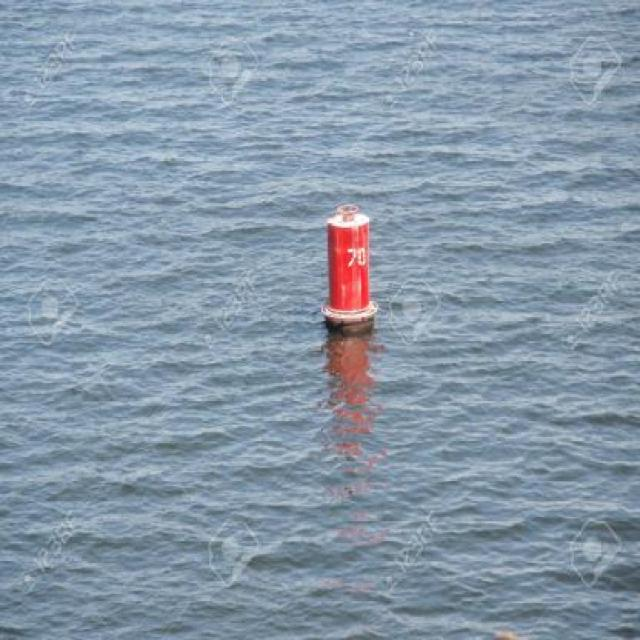a: (300, 184, 394, 335)
